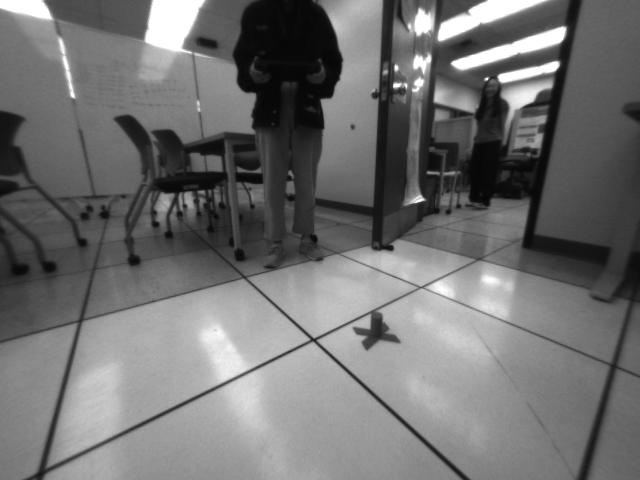x: (351, 310, 403, 352)
